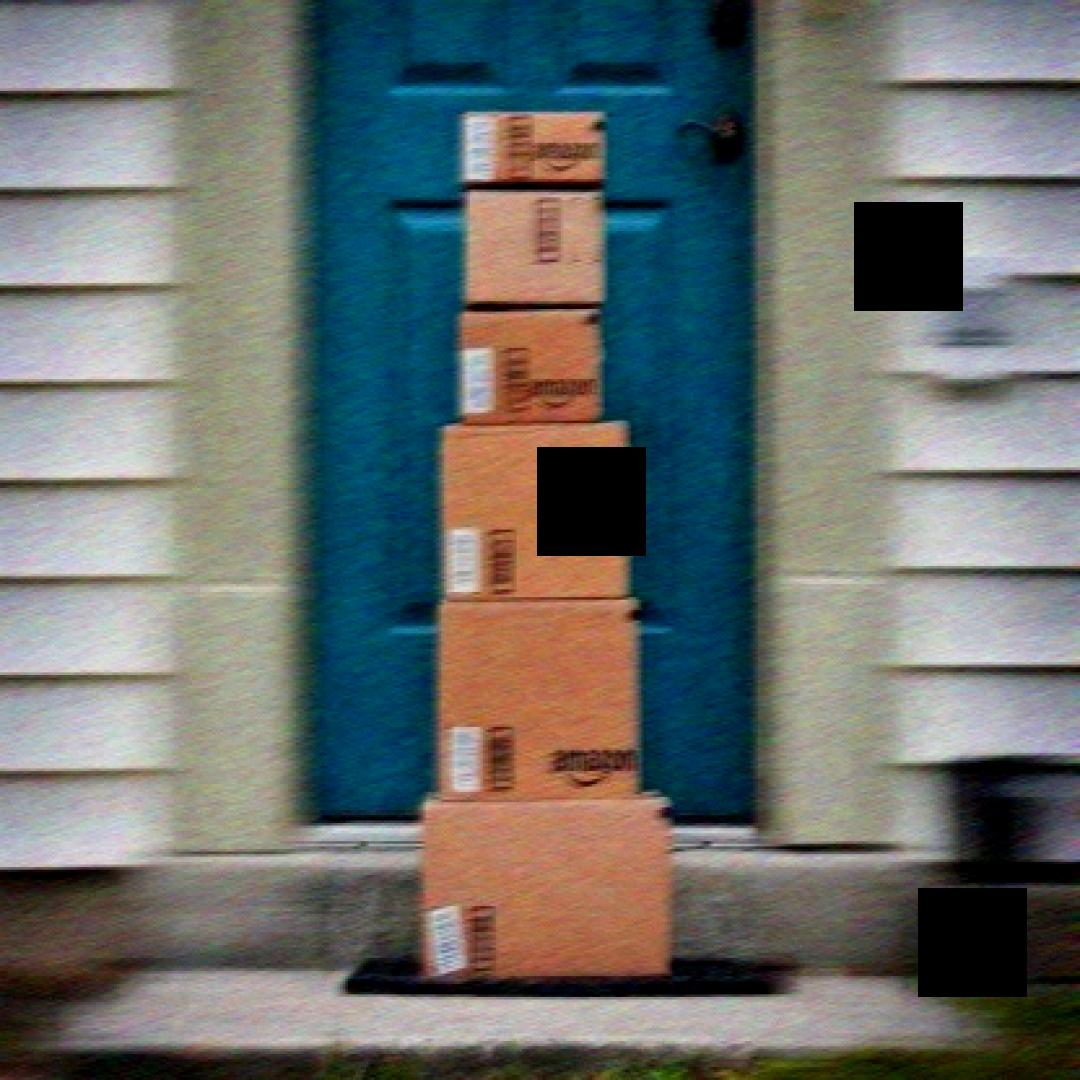package: (420, 784, 680, 987), (436, 590, 652, 796), (439, 420, 644, 602), (454, 304, 610, 426), (462, 192, 610, 312), (462, 101, 613, 192)
